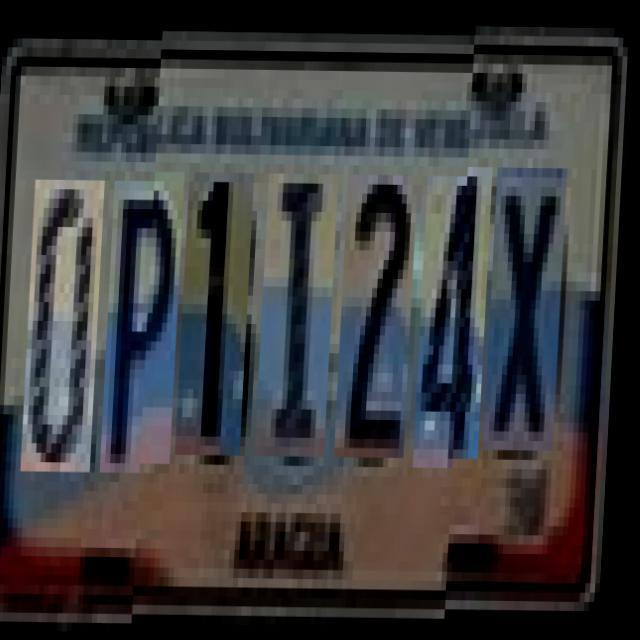0: (26, 170, 107, 463)
1: (180, 172, 256, 454)
2: (339, 174, 420, 456)
4: (418, 175, 494, 468)
I: (260, 172, 340, 456)
P: (106, 171, 186, 464)
X: (488, 175, 569, 458)
